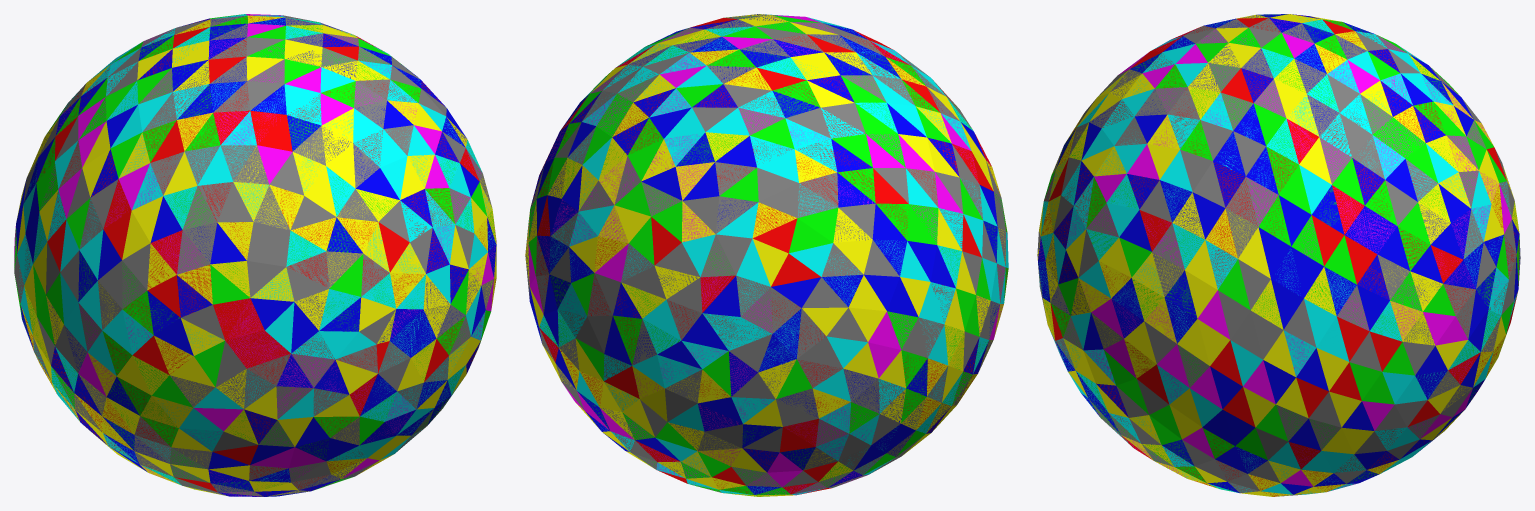
Rendered from SidesTriangl.obj.
3 renders of one model, left to right at view 1: azimuth 30°, elevation 25°; view 2: azimuth 150°, elevation 25°; view 3: azimuth 270°, elevation 25°, orthographic.
Bounding box in the file's own units: 2 × 2 × 2.
